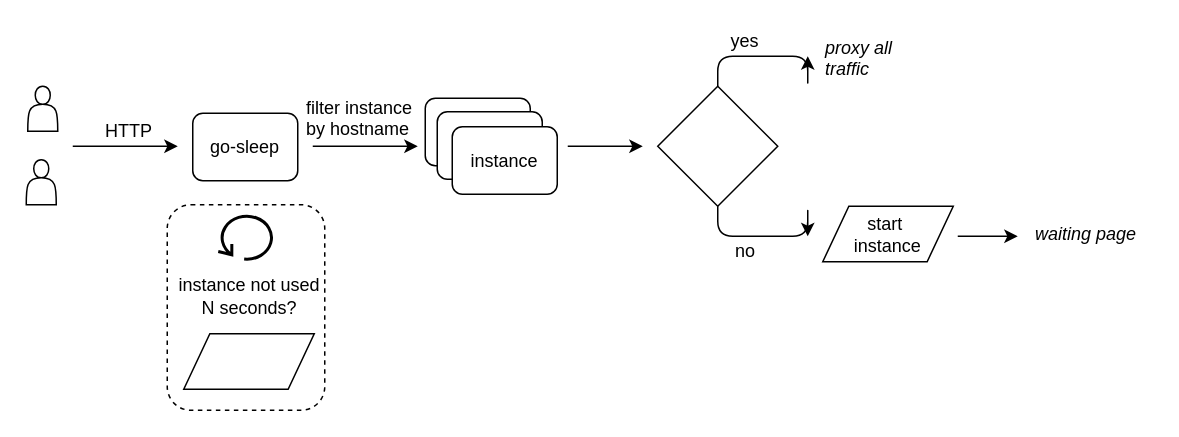
This 1179x437 diagram has some shape labels left out. Here are the shapes that lost their labels. From the top down, the box of each, then its label:
(656, 85, 778, 206): Instance ON?
(182, 332, 314, 389): stop instance
